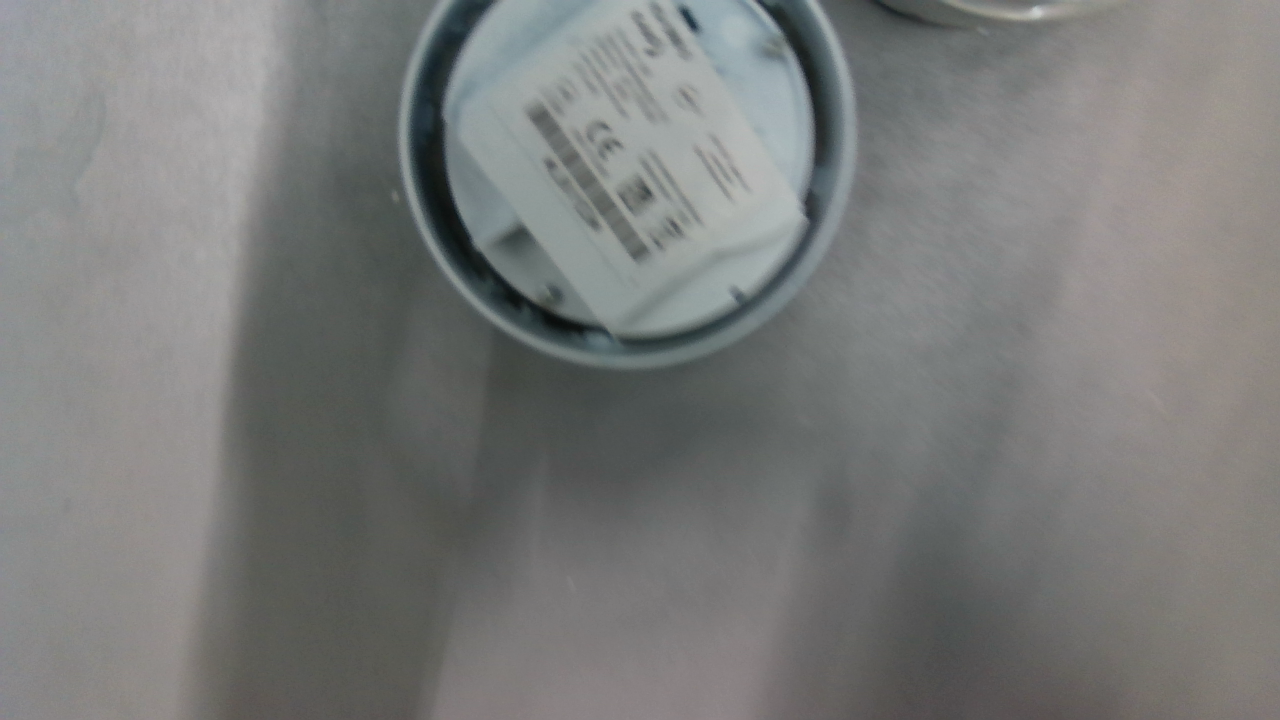HexScrew: (539, 284, 564, 312), (764, 36, 786, 62)
